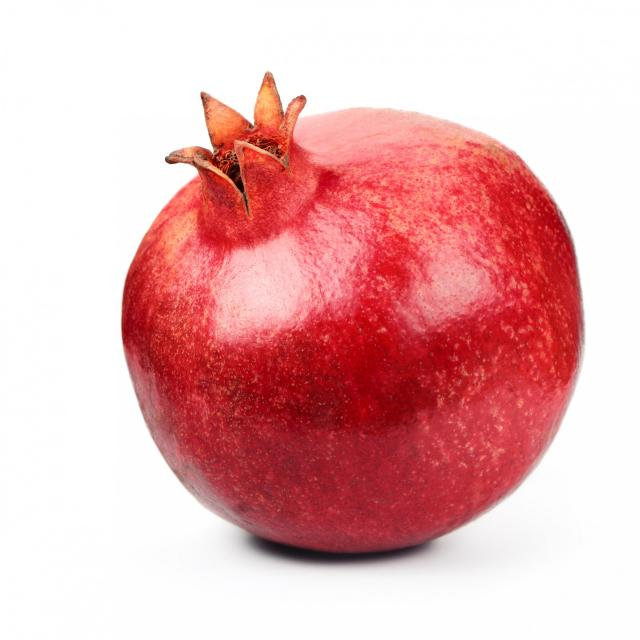Pomegranate: (117, 75, 582, 556)
